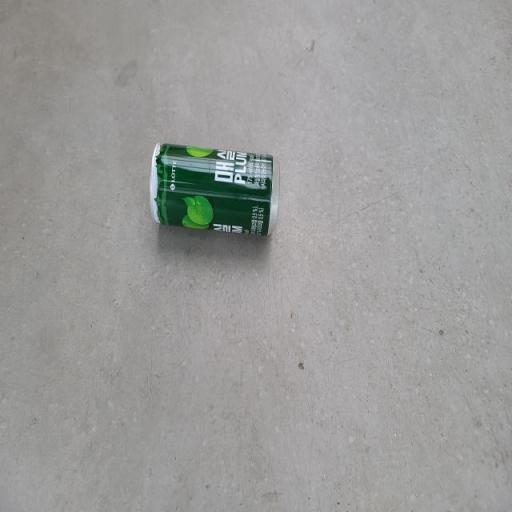metal: (114, 106, 291, 276)
